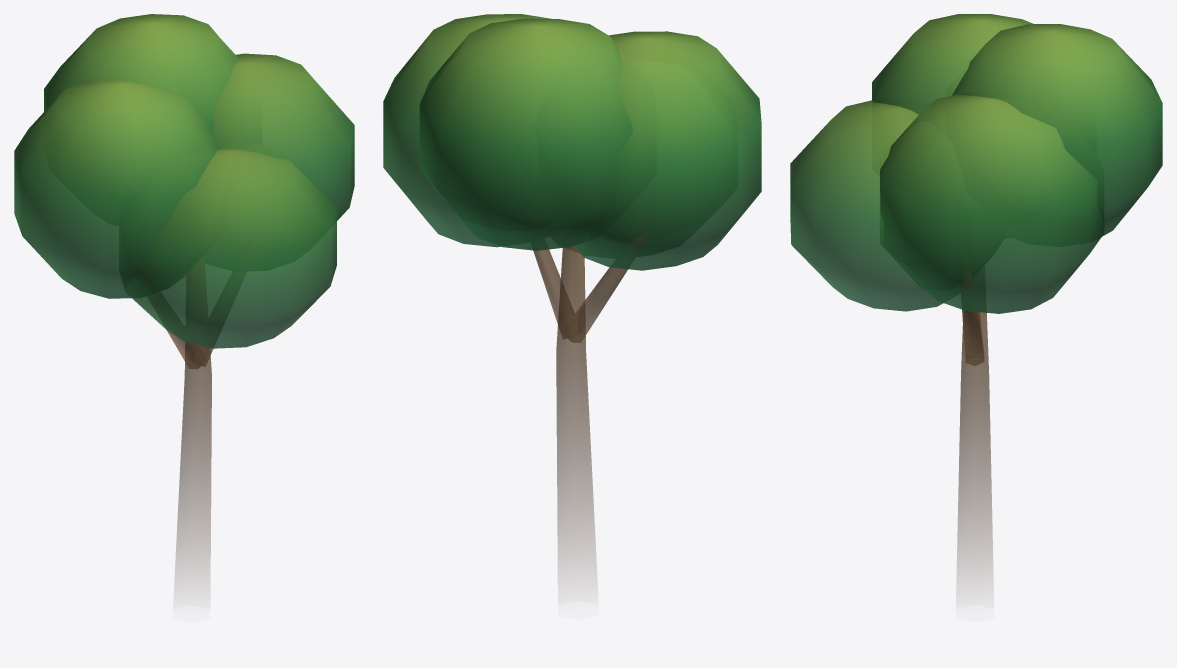
The model's file is tree_leaf_0.glb.
The picture shows the model from 3 angles, left to right: view 1: azimuth 30°, elevation 25°; view 2: azimuth 150°, elevation 25°; view 3: azimuth 270°, elevation 25°; orthographic projection. The views are drawn at different scales.
Parts seen in each view (by area): view 1: tree_leaf_0; view 2: tree_leaf_0; view 3: tree_leaf_0.
Part boxes in pixels (x1,y1,x2,y2): tree_leaf_0: (14, 14, 354, 585); tree_leaf_0: (383, 14, 761, 579); tree_leaf_0: (790, 14, 1162, 585).
Bounding box in the file's own units: 4.83 × 8.65 × 4.82.
